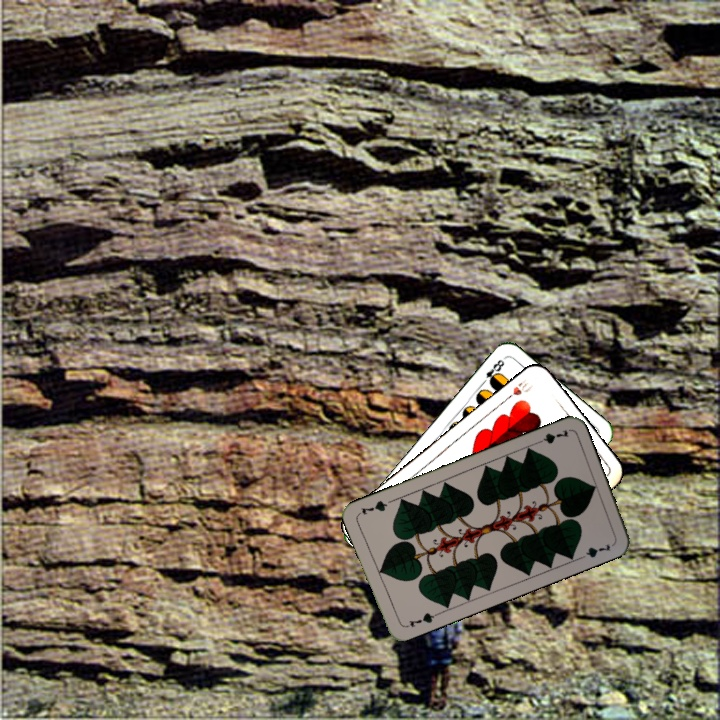E8: (477, 355, 507, 388)
G7: (401, 608, 440, 630), (531, 426, 571, 447)
H10: (500, 374, 535, 404)
